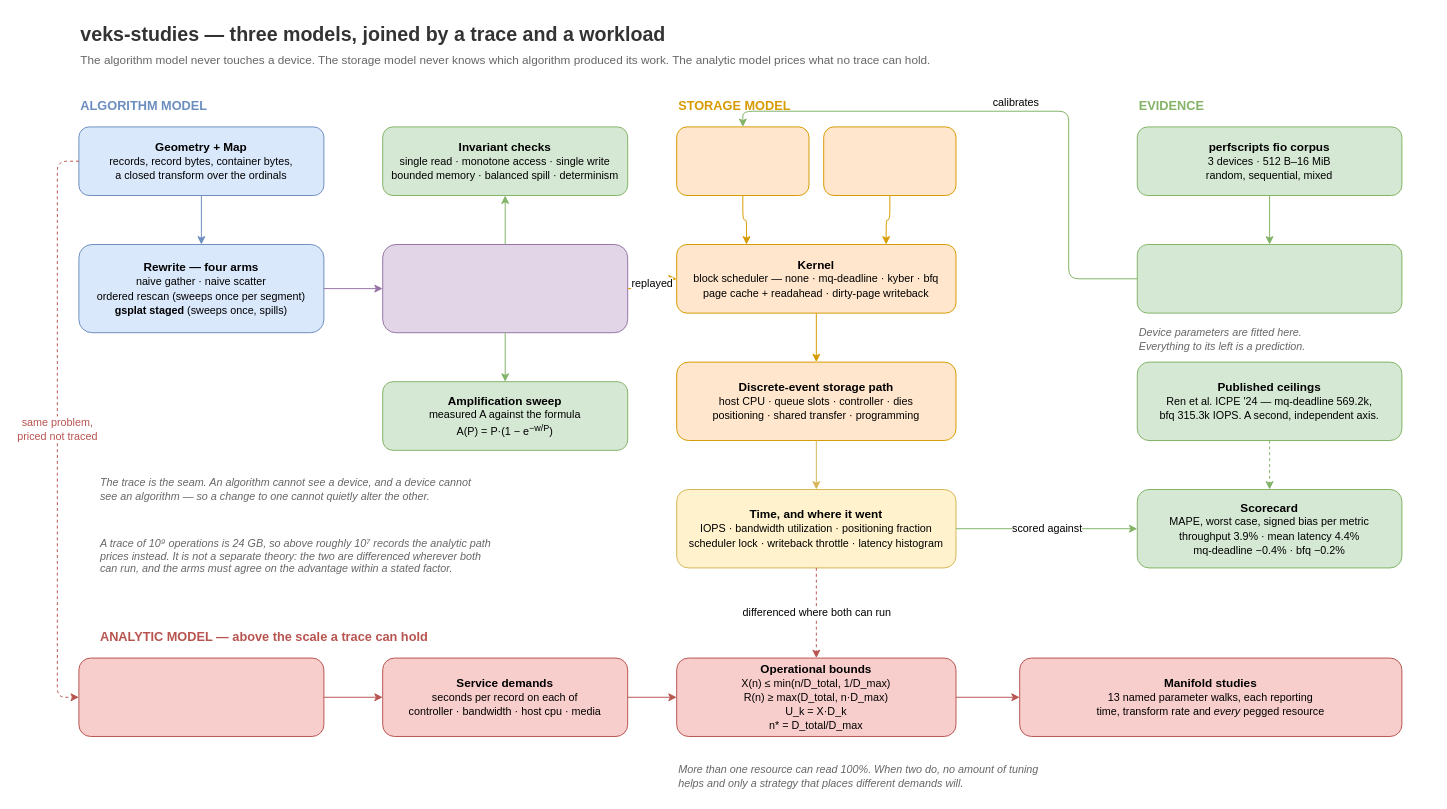
Image size: 1447x809. Some labels were removed from this diagram. The centre of each missing label's shape, as x and y in pixels:
Hardware rates, ceilings, dies: (742,161)
Platform cores · memory PCIe share · NUMA: (889,161)
Regimes measurement transcribed in the units fio reported it: (1269,278)
Trace ReadRecord · Scatter · WriteRange SpillWrite · SpillRead · Barrier: (505,288)
Workload 10⁹ ordinals · 1 TiB · budget container · block · depth: (201,696)
